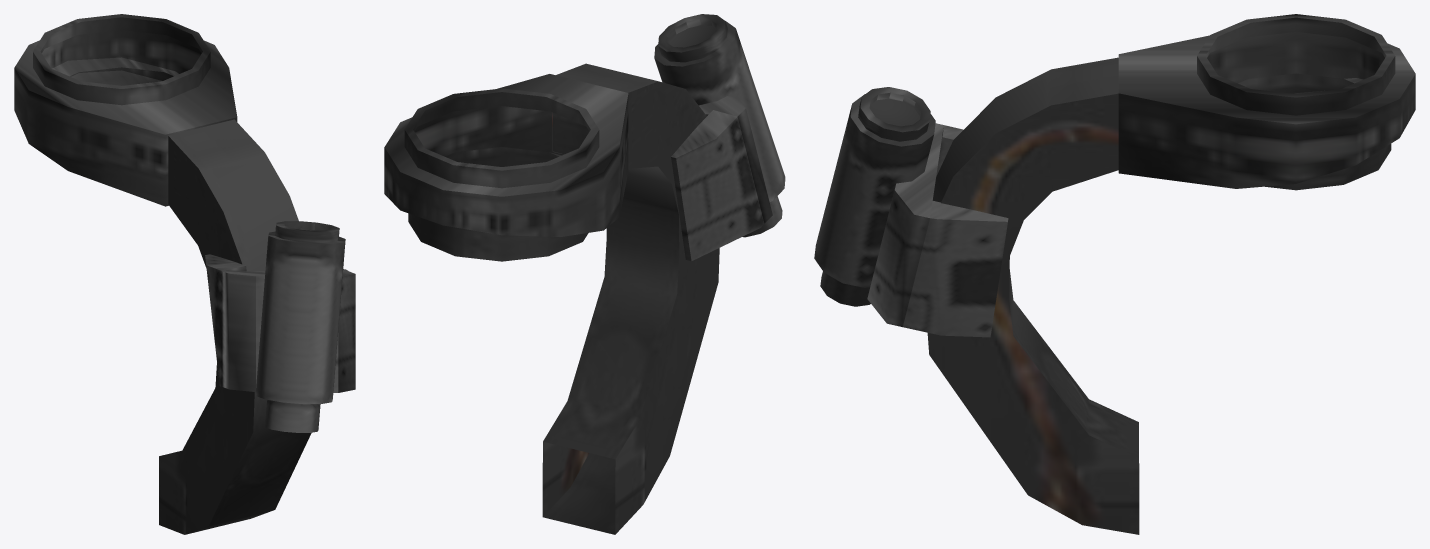
File: Body_SteerLeftFront.dae
The picture shows the model from 3 angles, left to right: view 1: azimuth 30°, elevation 25°; view 2: azimuth 150°, elevation 25°; view 3: azimuth 270°, elevation 25°; orthographic projection. The views are drawn at different scales.
Visible parts, largest first — view 1: suspension_steer_F_L; view 2: suspension_steer_F_L; view 3: suspension_steer_F_L.
Part boxes in pixels (x1,y1,x2,y2): suspension_steer_F_L: (14, 14, 355, 534); suspension_steer_F_L: (384, 14, 785, 534); suspension_steer_F_L: (814, 14, 1415, 534).
Bounding box in the file's own units: 0.2102 × 0.5284 × 0.4469.
2 materials, 2 textured.
